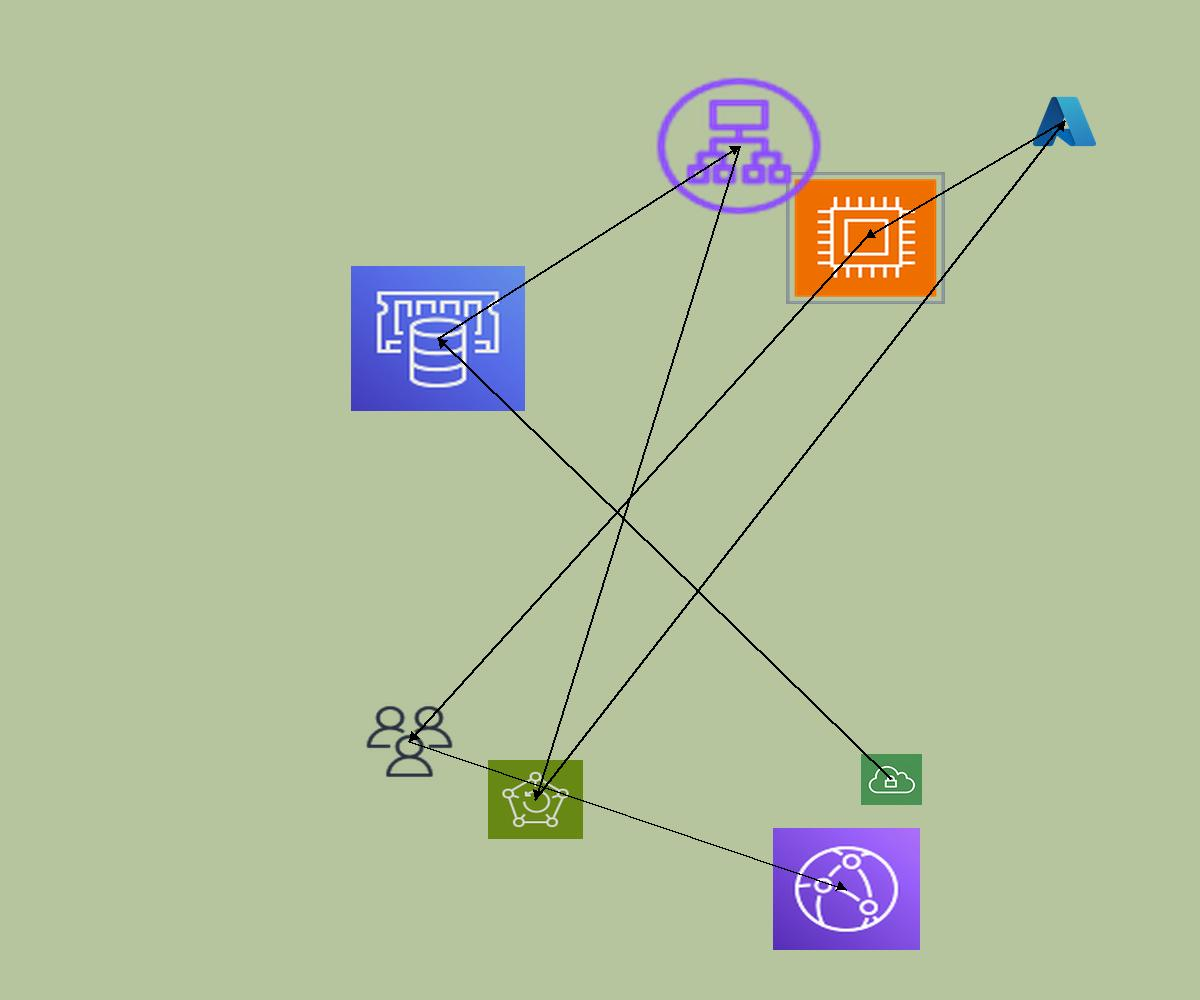AWS-Backup: (488, 760, 583, 839)
AWS-Category_Compute: (786, 172, 945, 304)
AWS-CloudFront: (773, 828, 920, 950)
AWS-ElastiCache: (351, 266, 525, 411)
AWS-Private_vpc: (861, 754, 922, 805)
AWS-Res_Elastic-Load-Balancing_Application-Load-Balancer: (650, 72, 828, 220)
AWS-Res_Users: (363, 703, 456, 780)
Azure_services: (1030, 93, 1099, 150)
